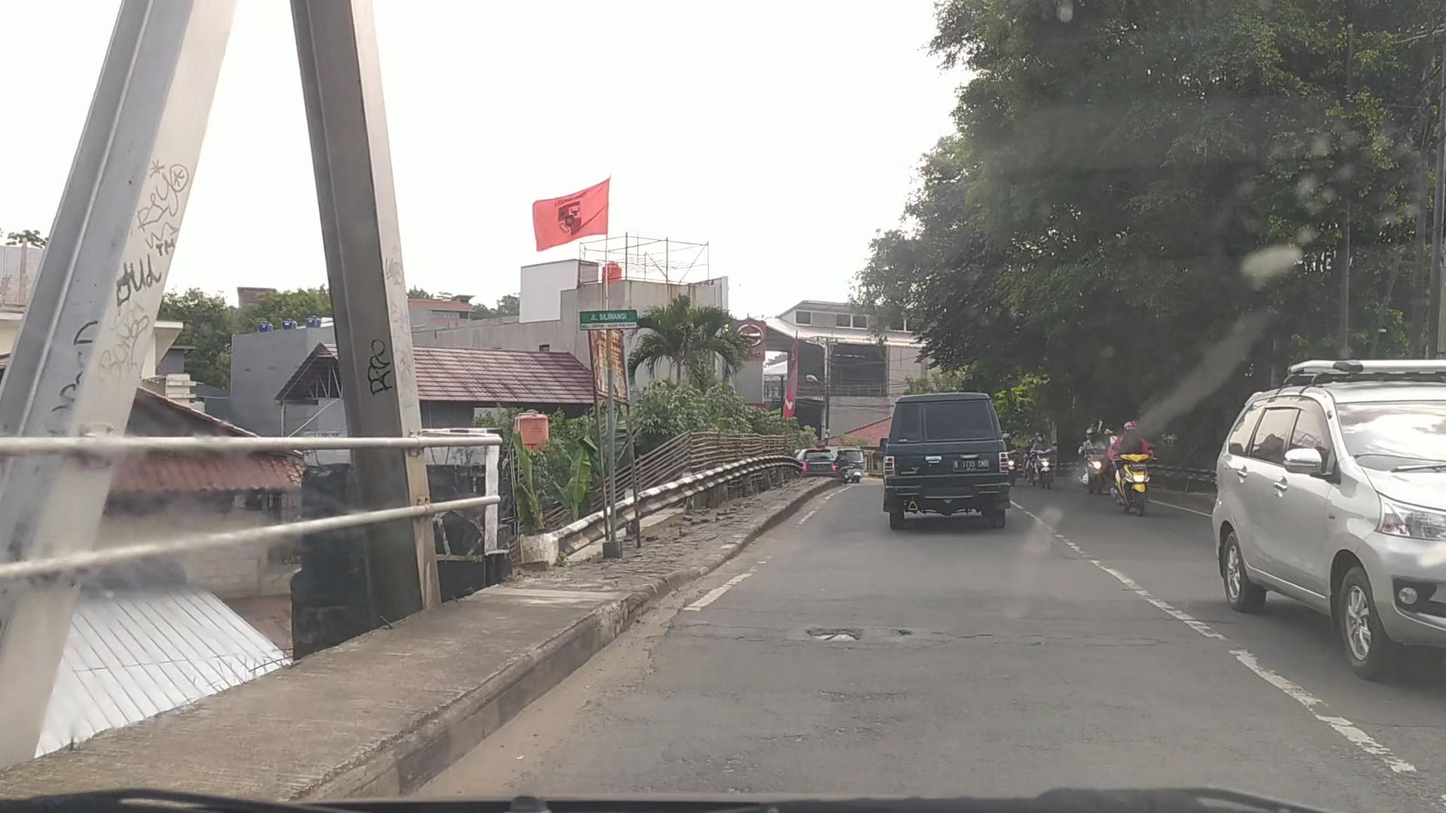pothole: (805, 627, 865, 642)
